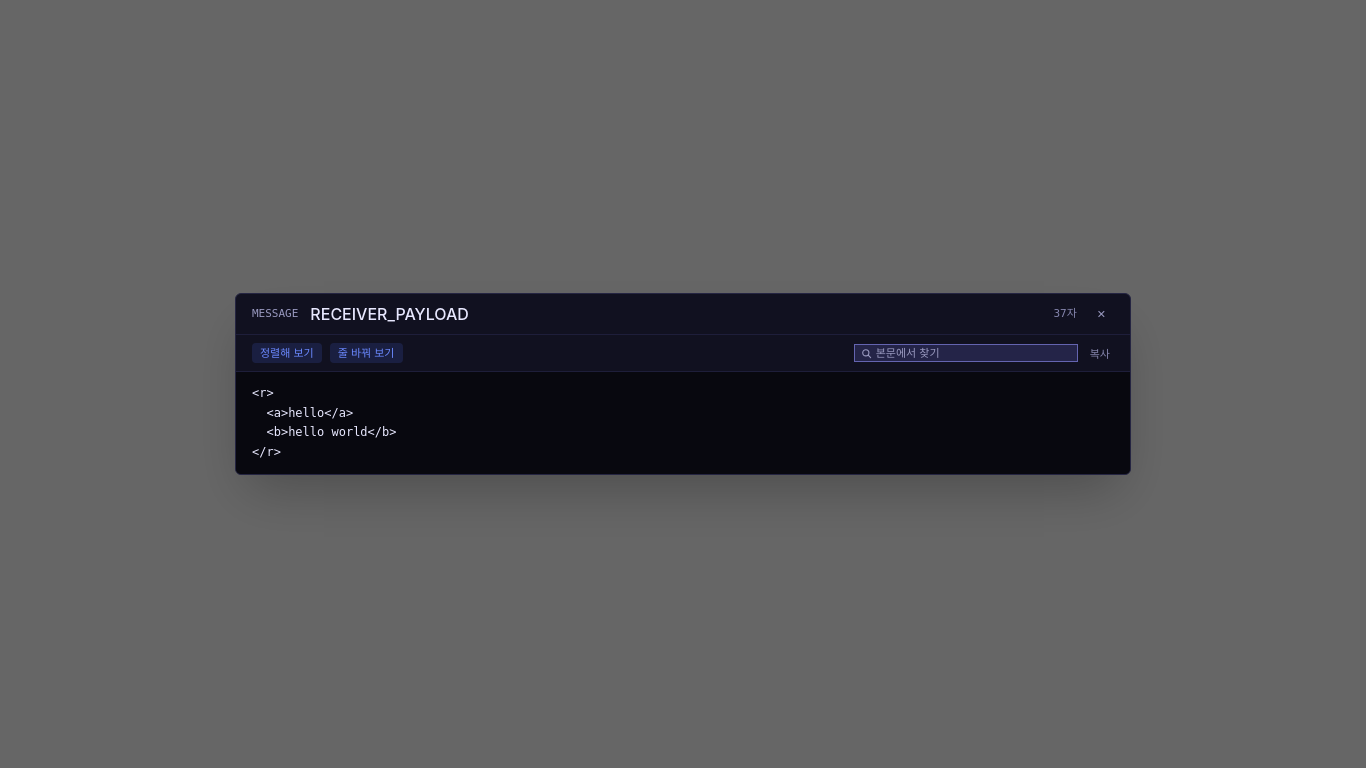
Test: 본문 전체 보기 › 원문으로 돌아갈 수 있다
# 나눈 모양이 미덥지 않을 때 실제로 오간 글자를 볼 방법이 있어야 근거로 쓸 수 있다.
Click the button "정렬해 보기". click: (287, 353)
box: [252, 343, 322, 363]
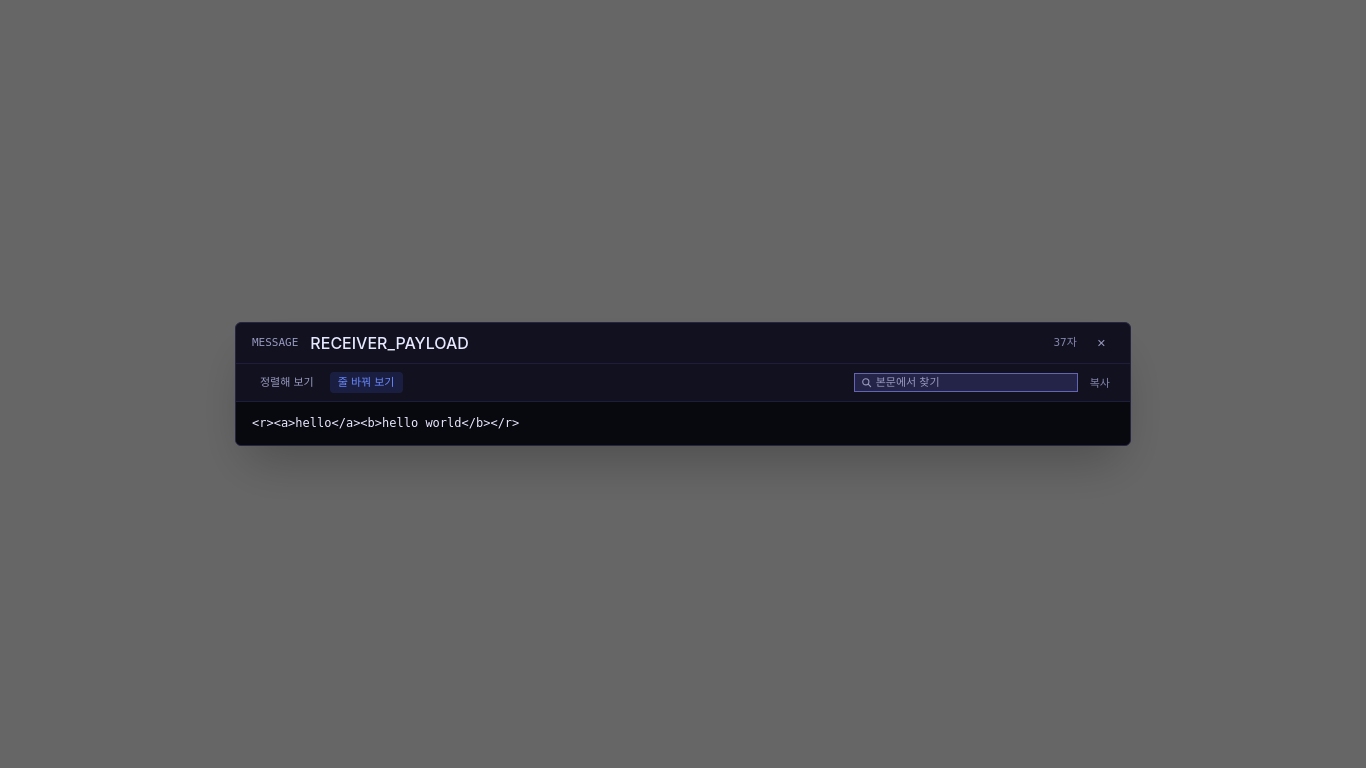
Check: the text "<r><a>hello</a><b>hello world</b></r>" is shown, box [236, 402, 1130, 445]
